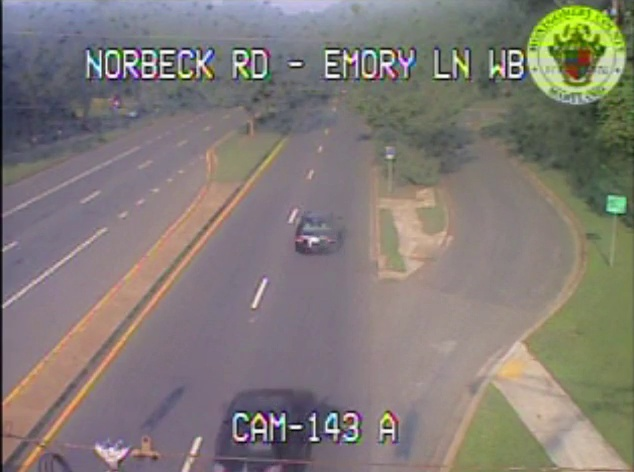car: (294, 211, 336, 253)
